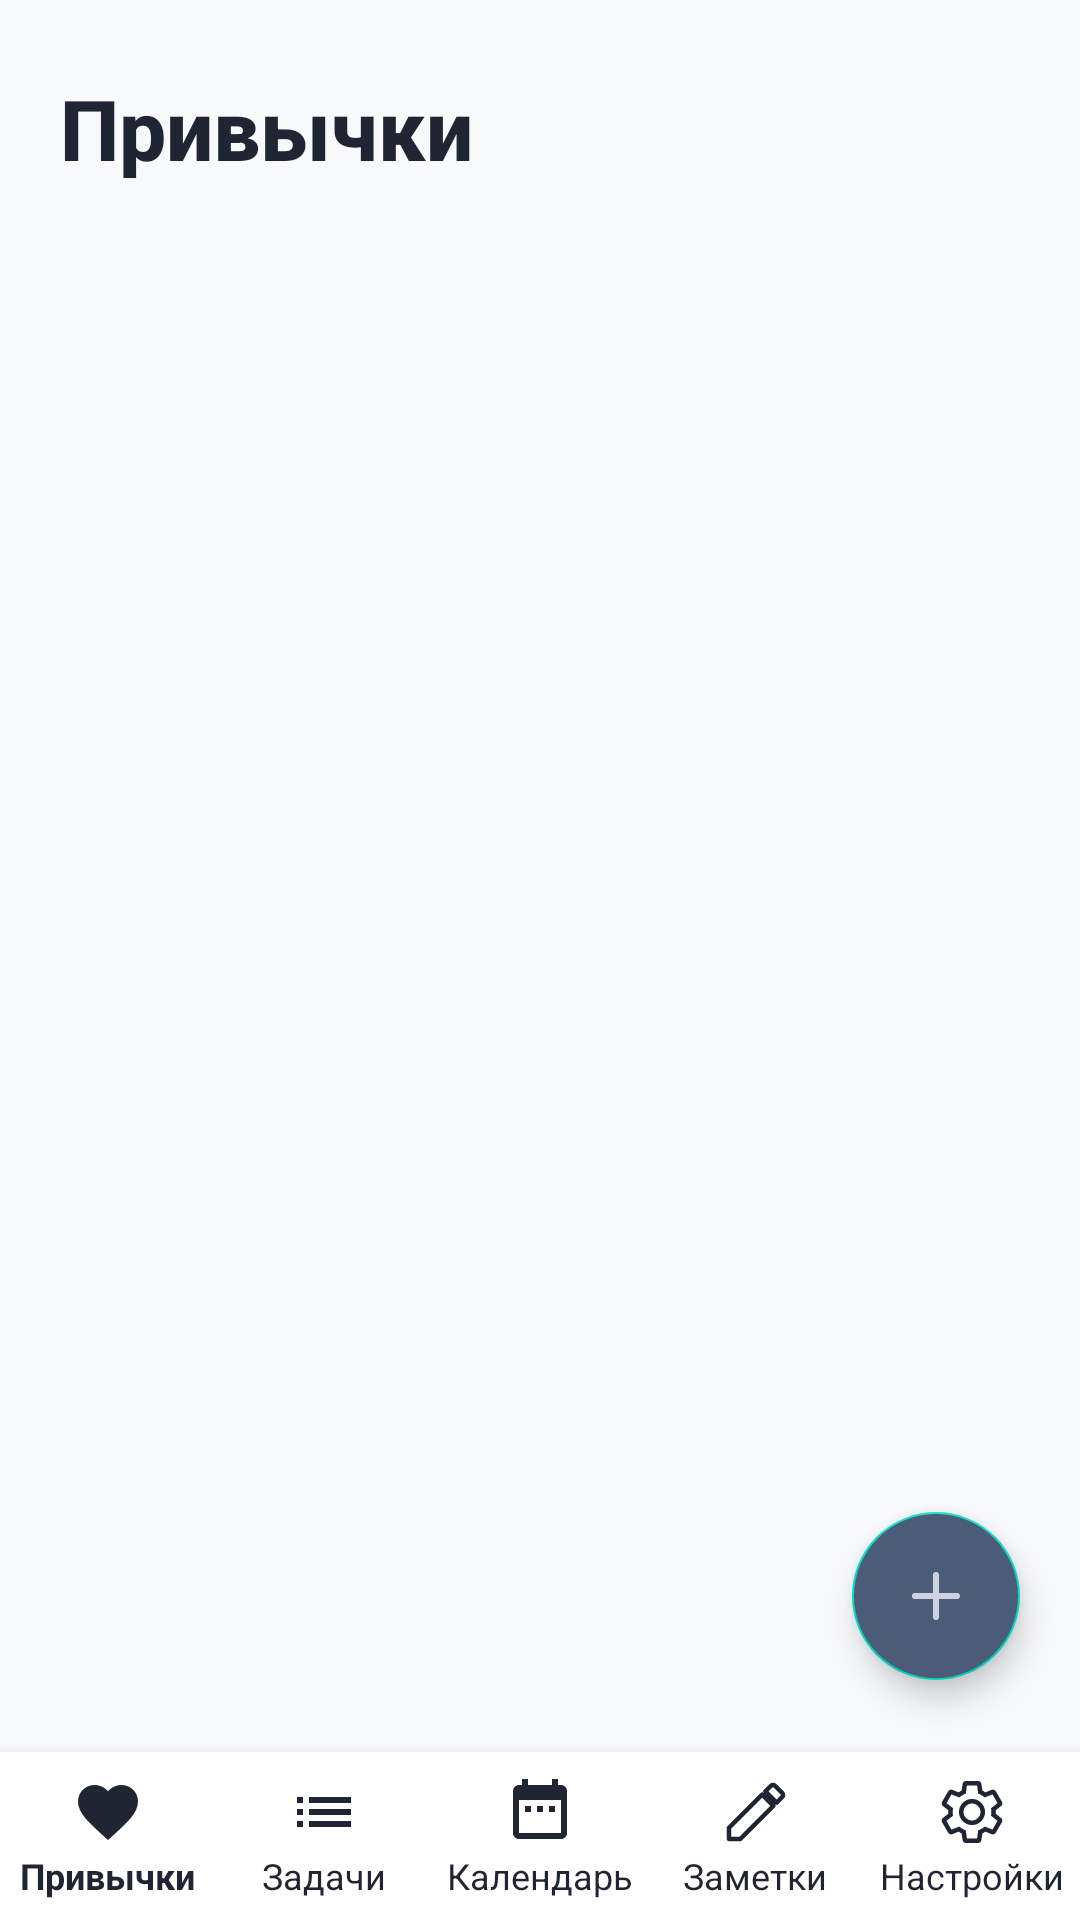

Named icons in this screenshot (1080*1920) and their bounding boxes, (x1, y1, x2, y2):
add: (852, 1512, 1020, 1680)
